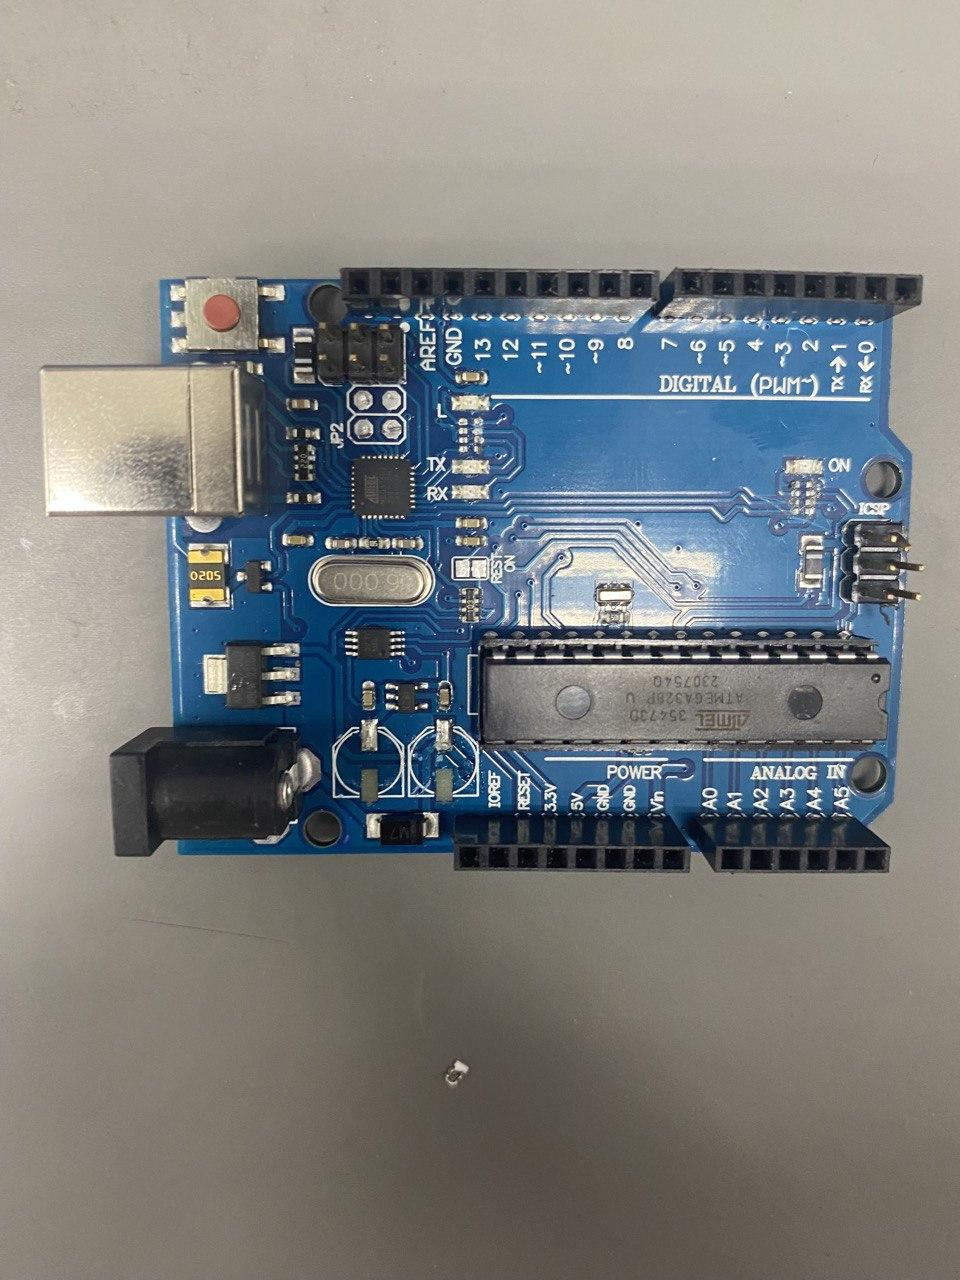ATmega328 chip: (479, 629, 890, 751)
Arduino board: (38, 268, 925, 874)
USB: (38, 365, 267, 518)
pins: (339, 268, 660, 324), (653, 268, 924, 324), (453, 814, 691, 876), (690, 817, 890, 874)
resistor: (293, 443, 315, 482), (461, 588, 480, 624)
